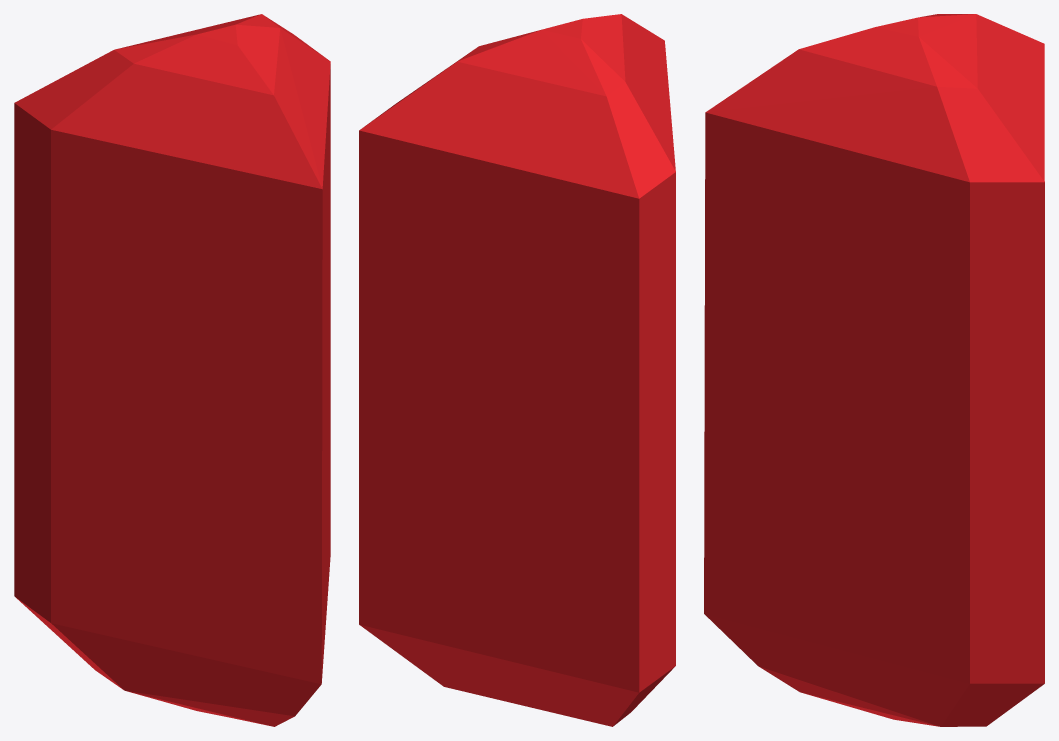
The model's file is PandoraHitbox.fbx.
3 views of the same model, side by side, from view 1: azimuth 30°, elevation 25°; view 2: azimuth 150°, elevation 25°; view 3: azimuth 270°, elevation 25° (orthographic).
Parts seen in each view (by area): view 1: Cuerpo.001; view 2: Cuerpo.001; view 3: Cuerpo.001.
Boxes of the visible parts, left/top/right/bottom form: Cuerpo.001: left=14, top=14, right=330, bottom=726; Cuerpo.001: left=359, top=14, right=675, bottom=726; Cuerpo.001: left=704, top=14, right=1044, bottom=726.
Size of the model in its own units: 322 by 748 by 334.
